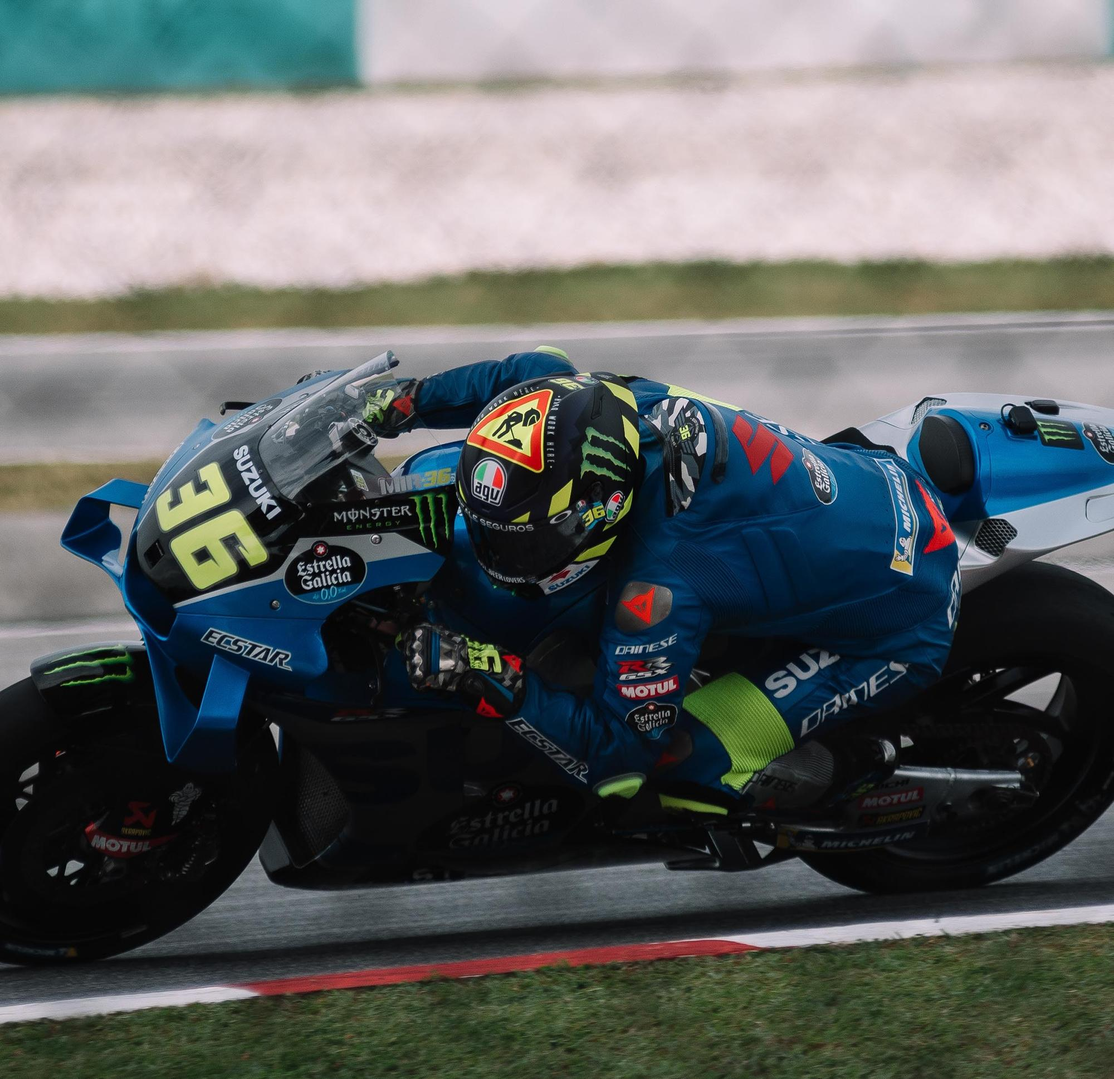helmet: (454, 369, 641, 601)
